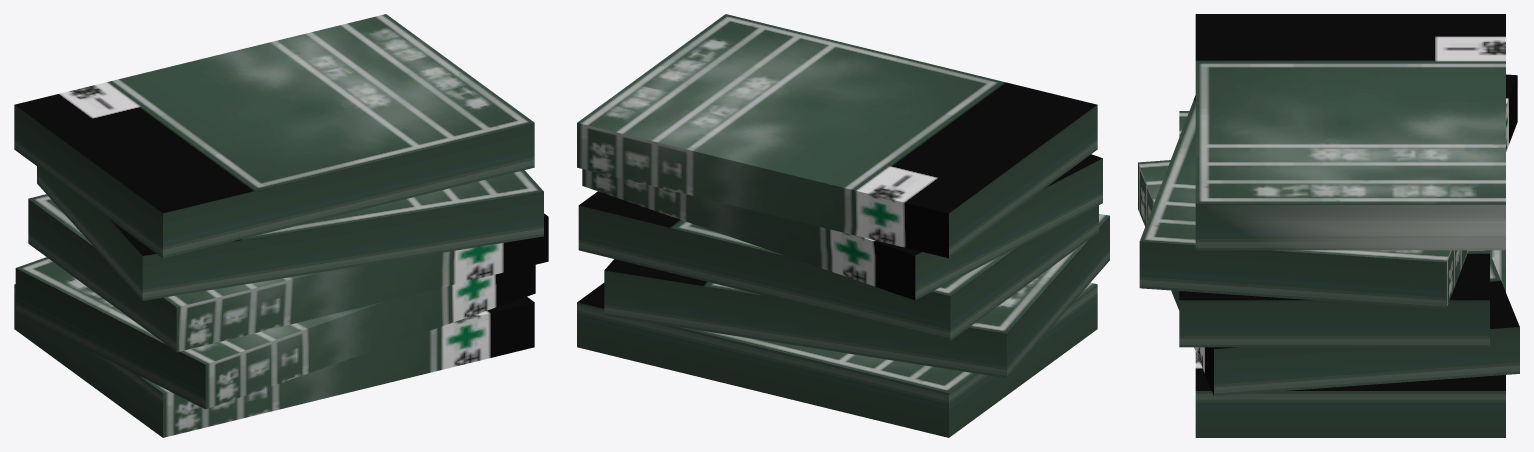
The picture shows the model from 3 angles, left to right: view 1: azimuth 30°, elevation 25°; view 2: azimuth 150°, elevation 25°; view 3: azimuth 270°, elevation 25°; orthographic projection. The views are drawn at different scales.
Visible parts, largest first — view 1: Joint_0_Object_0; view 2: Joint_0_Object_0; view 3: Joint_0_Object_0.
Part boxes in pixels (x1,y1,x2,y2): Joint_0_Object_0: (14,14,548,437); Joint_0_Object_0: (577,14,1109,437); Joint_0_Object_0: (1138,14,1519,437).
Bounding box in the file's own units: 592 × 300 × 443.
